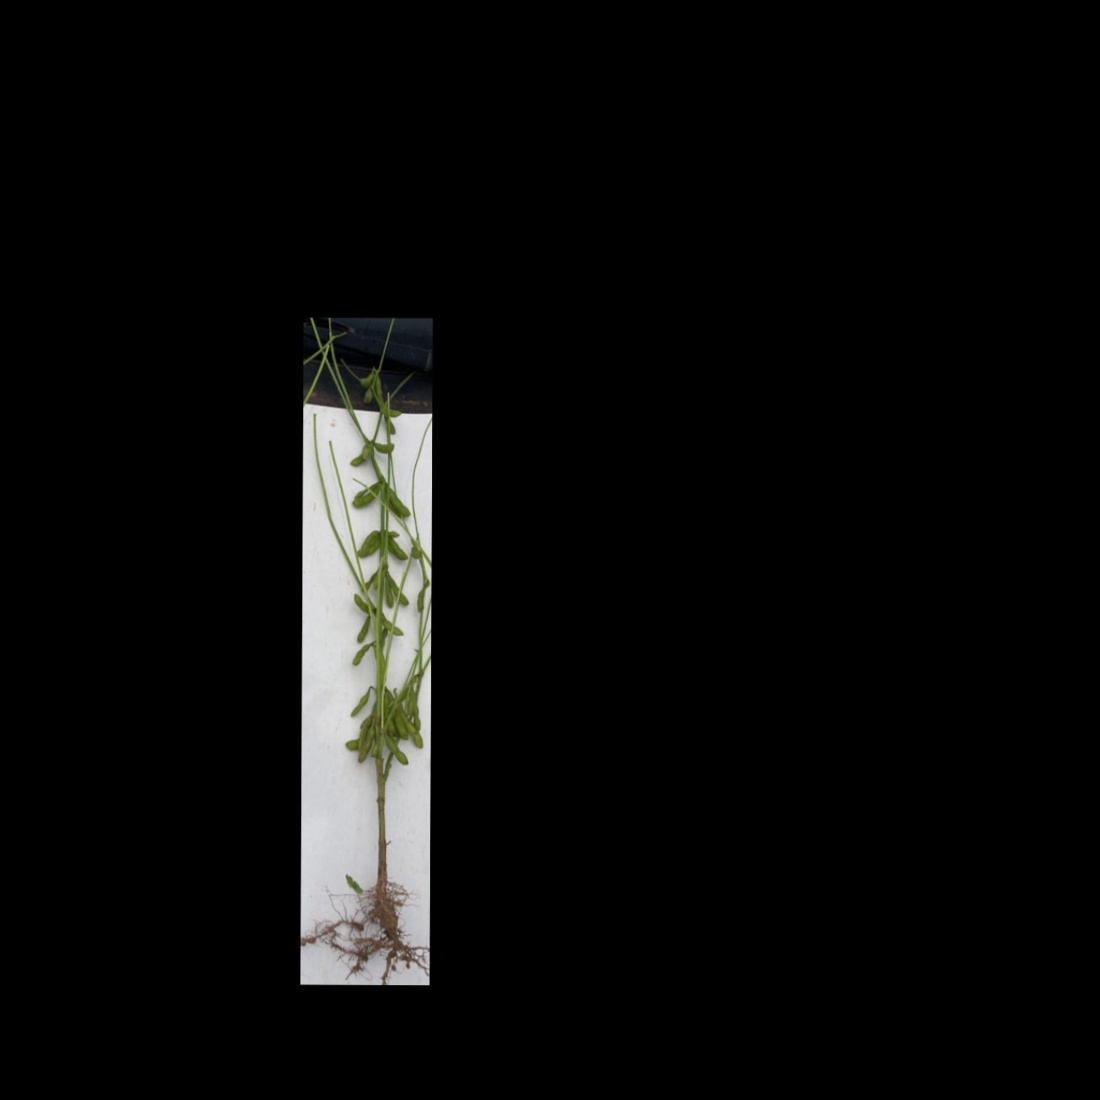pod: (385, 482, 414, 520), (382, 733, 409, 769), (347, 684, 373, 719), (350, 639, 376, 668), (379, 611, 406, 637), (385, 536, 409, 563), (354, 612, 373, 645), (358, 527, 380, 552), (376, 404, 406, 418), (368, 442, 399, 454)
soy: (323, 342, 426, 966)
